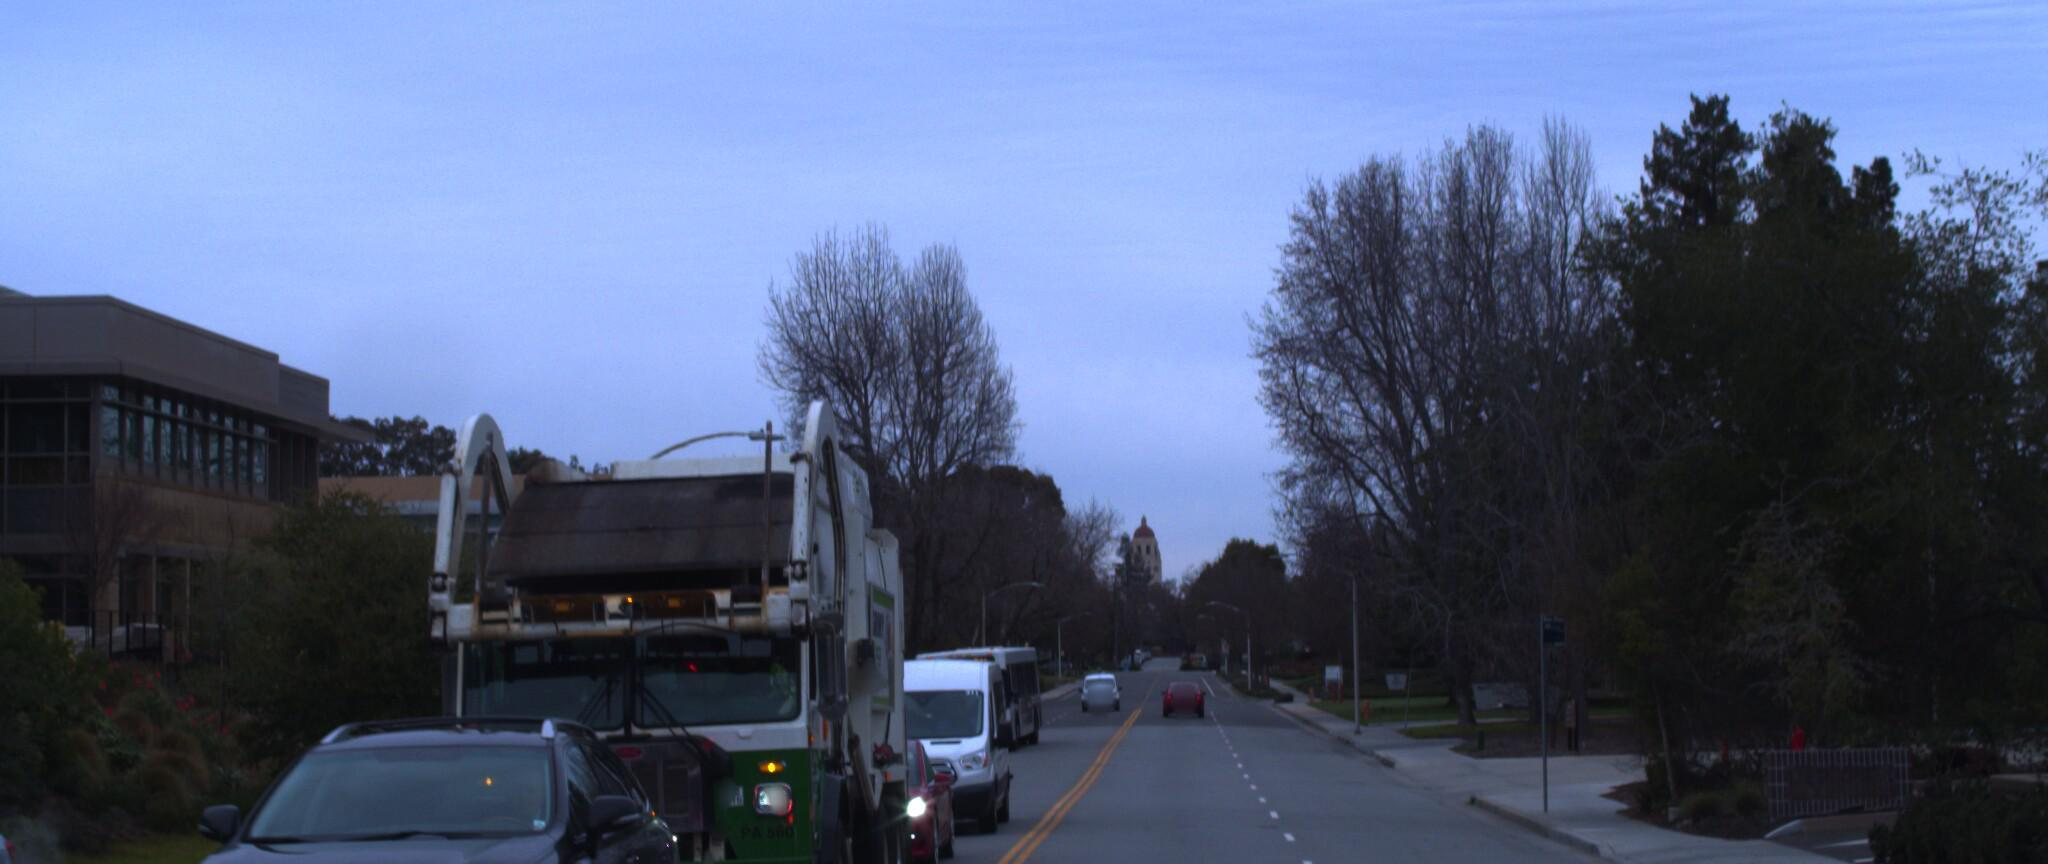car: (93, 706, 697, 864), (1908, 583, 2048, 864), (827, 656, 1006, 844), (756, 733, 947, 864), (0, 723, 54, 864)
truck: (392, 375, 933, 864)
